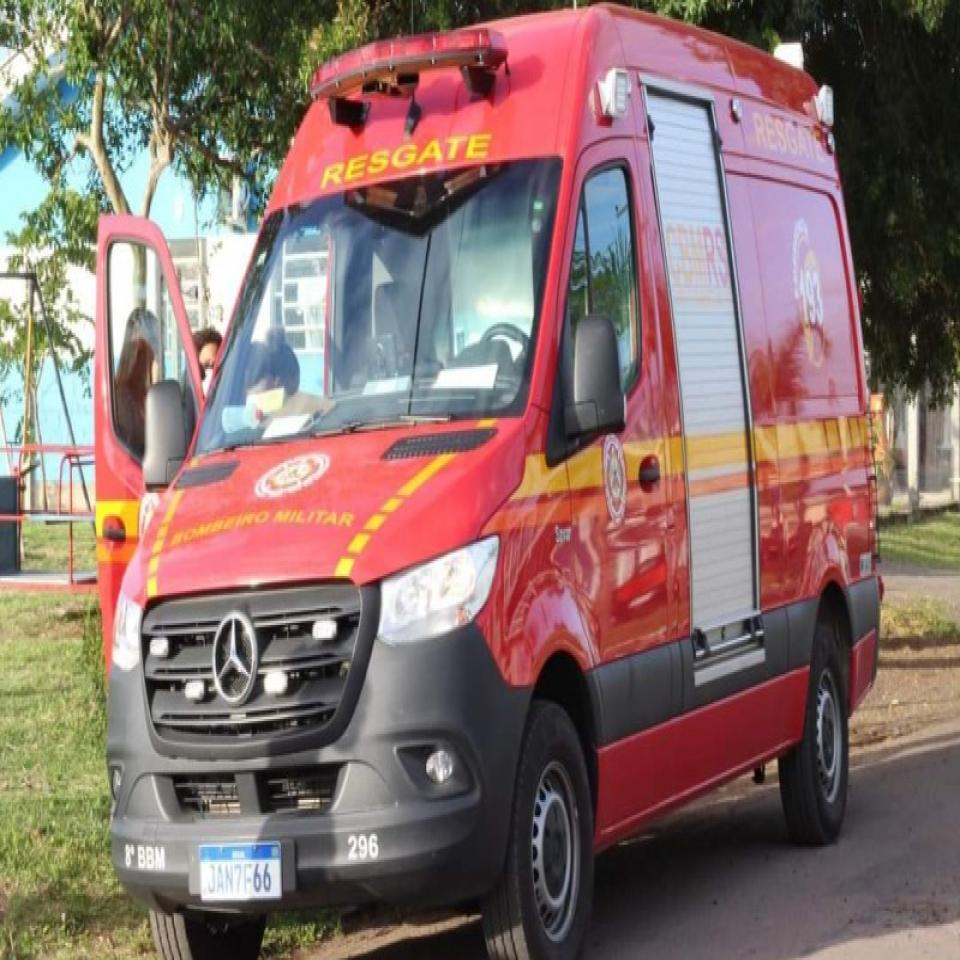viatura: (98, 0, 884, 960)
